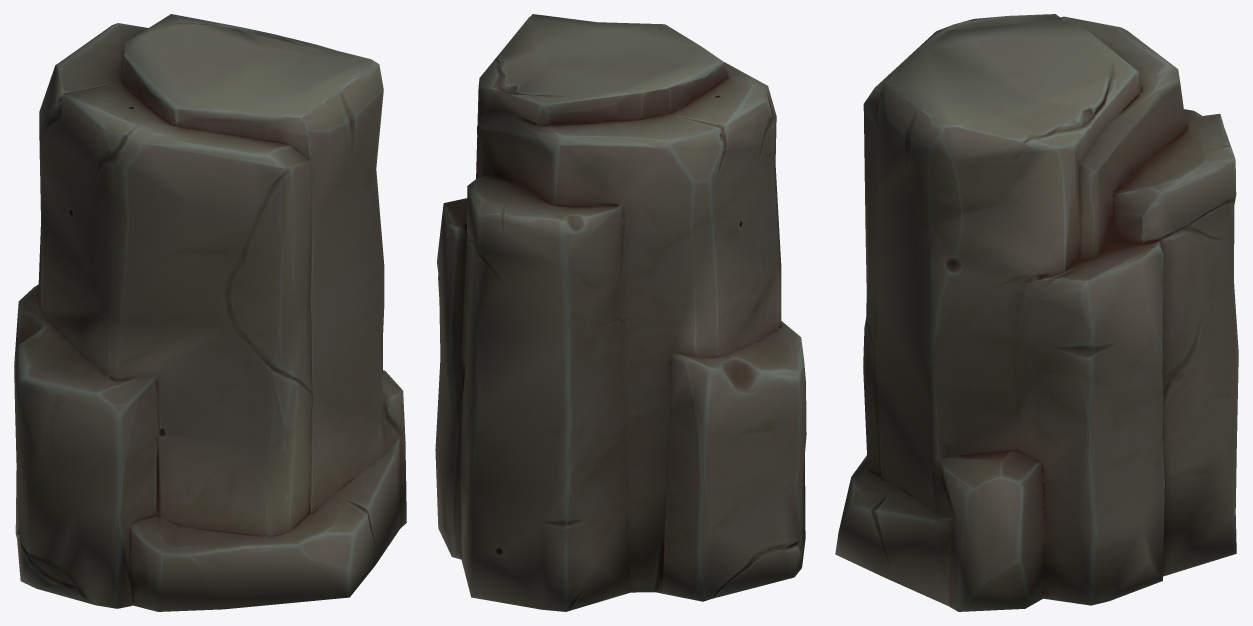
Rendered from ROK0110023.fbx.
3 renders of one model, left to right at view 1: azimuth 30°, elevation 25°; view 2: azimuth 150°, elevation 25°; view 3: azimuth 270°, elevation 25°, orthographic. The views are drawn at different scales.
Parts seen in each view (by area): view 1: smROK0110023; view 2: smROK0110023; view 3: smROK0110023.
Part boxes in pixels (left/top/right/bottom): smROK0110023: left=14, top=14, right=406, bottom=611; smROK0110023: left=435, top=14, right=806, bottom=611; smROK0110023: left=835, top=14, right=1238, bottom=611.
Size of the model in its own units: 211 by 273 by 207.
Materials: 1 (1 with a texture image).
